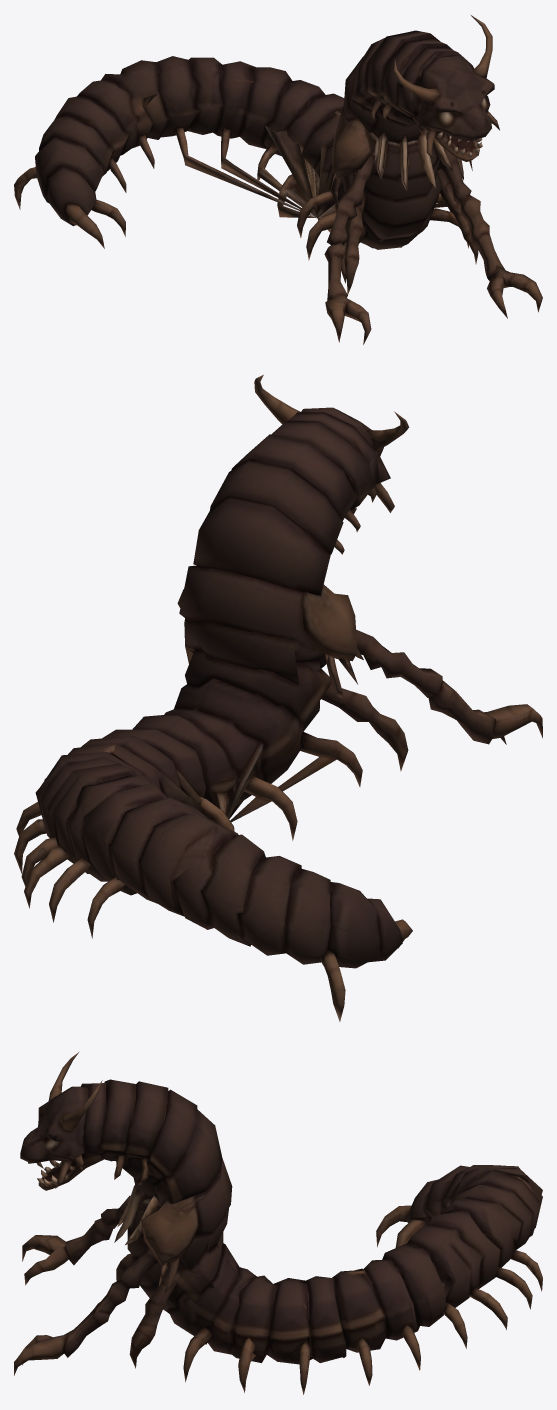
File: กิ้งกือ_ev_shop.glb
3 renders of one model, top to bottom at view 1: azimuth 30°, elevation 25°; view 2: azimuth 150°, elevation 25°; view 3: azimuth 270°, elevation 25°, orthographic. The views are drawn at different scales.
Parts seen in each view (by area): view 1: mesh_node; view 2: mesh_node; view 3: mesh_node.
Boxes of the visible parts, left/top/right/bottom form: mesh_node: left=14, top=15, right=542, bottom=344; mesh_node: left=14, top=374, right=542, bottom=1021; mesh_node: left=14, top=1051, right=542, bottom=1394.
Size of the model in its own units: 0.7324 by 0.6016 by 1.
Materials: 1 (1 with a texture image).
